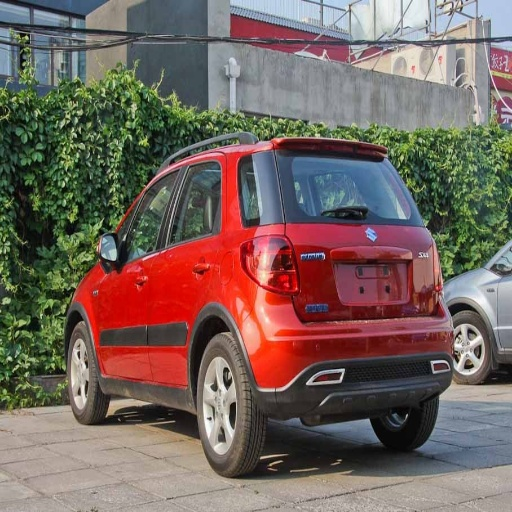back_bumper: (248, 287, 453, 432)
back_glass: (263, 149, 412, 220)
back_left_door: (148, 157, 224, 384)
tailgate: (337, 259, 411, 323)
trunk: (275, 227, 433, 355)
